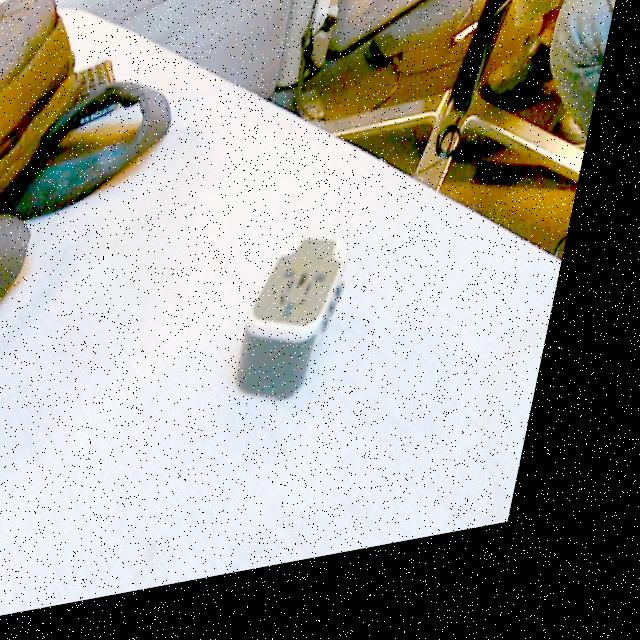adapter: (248, 238, 372, 422)
